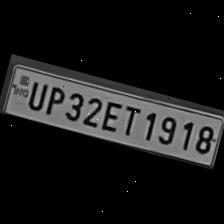1: (173, 115, 199, 153), (134, 106, 160, 143)
2: (78, 92, 104, 129)
3: (60, 88, 88, 124)
8: (188, 120, 218, 157)
9: (150, 109, 180, 148)
E: (96, 96, 124, 134)
P: (40, 80, 68, 118)
T: (118, 102, 144, 138)
U: (22, 76, 48, 113)
